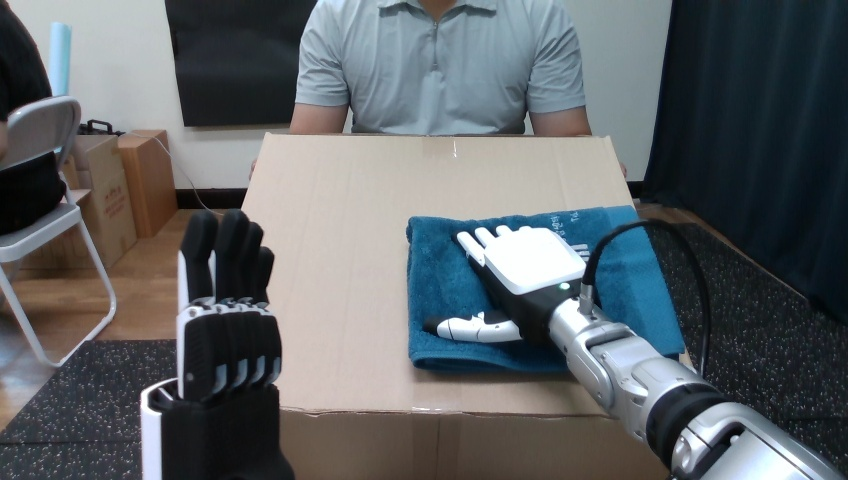left robot hand: (676, 222, 847, 476), (141, 210, 293, 478)
